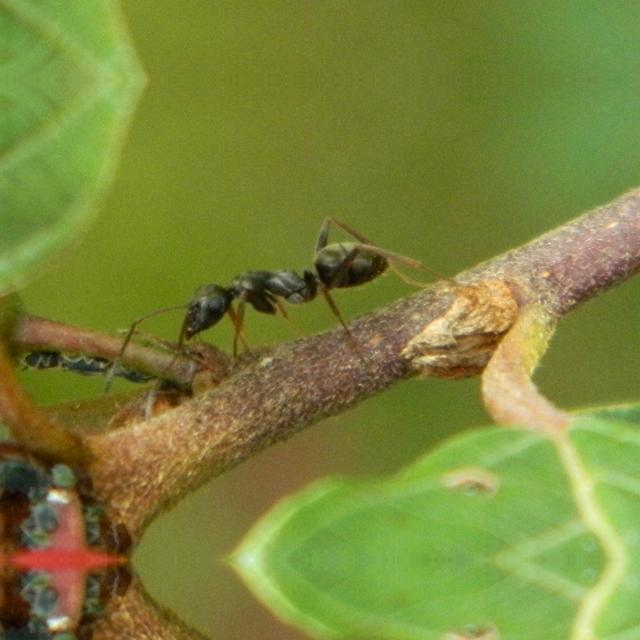Formica: (86, 182, 468, 418)
